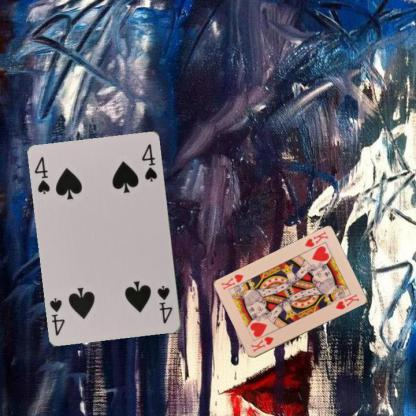4s: (155, 283, 174, 325), (32, 154, 51, 196)
Kh: (248, 334, 275, 354), (302, 229, 330, 248)
